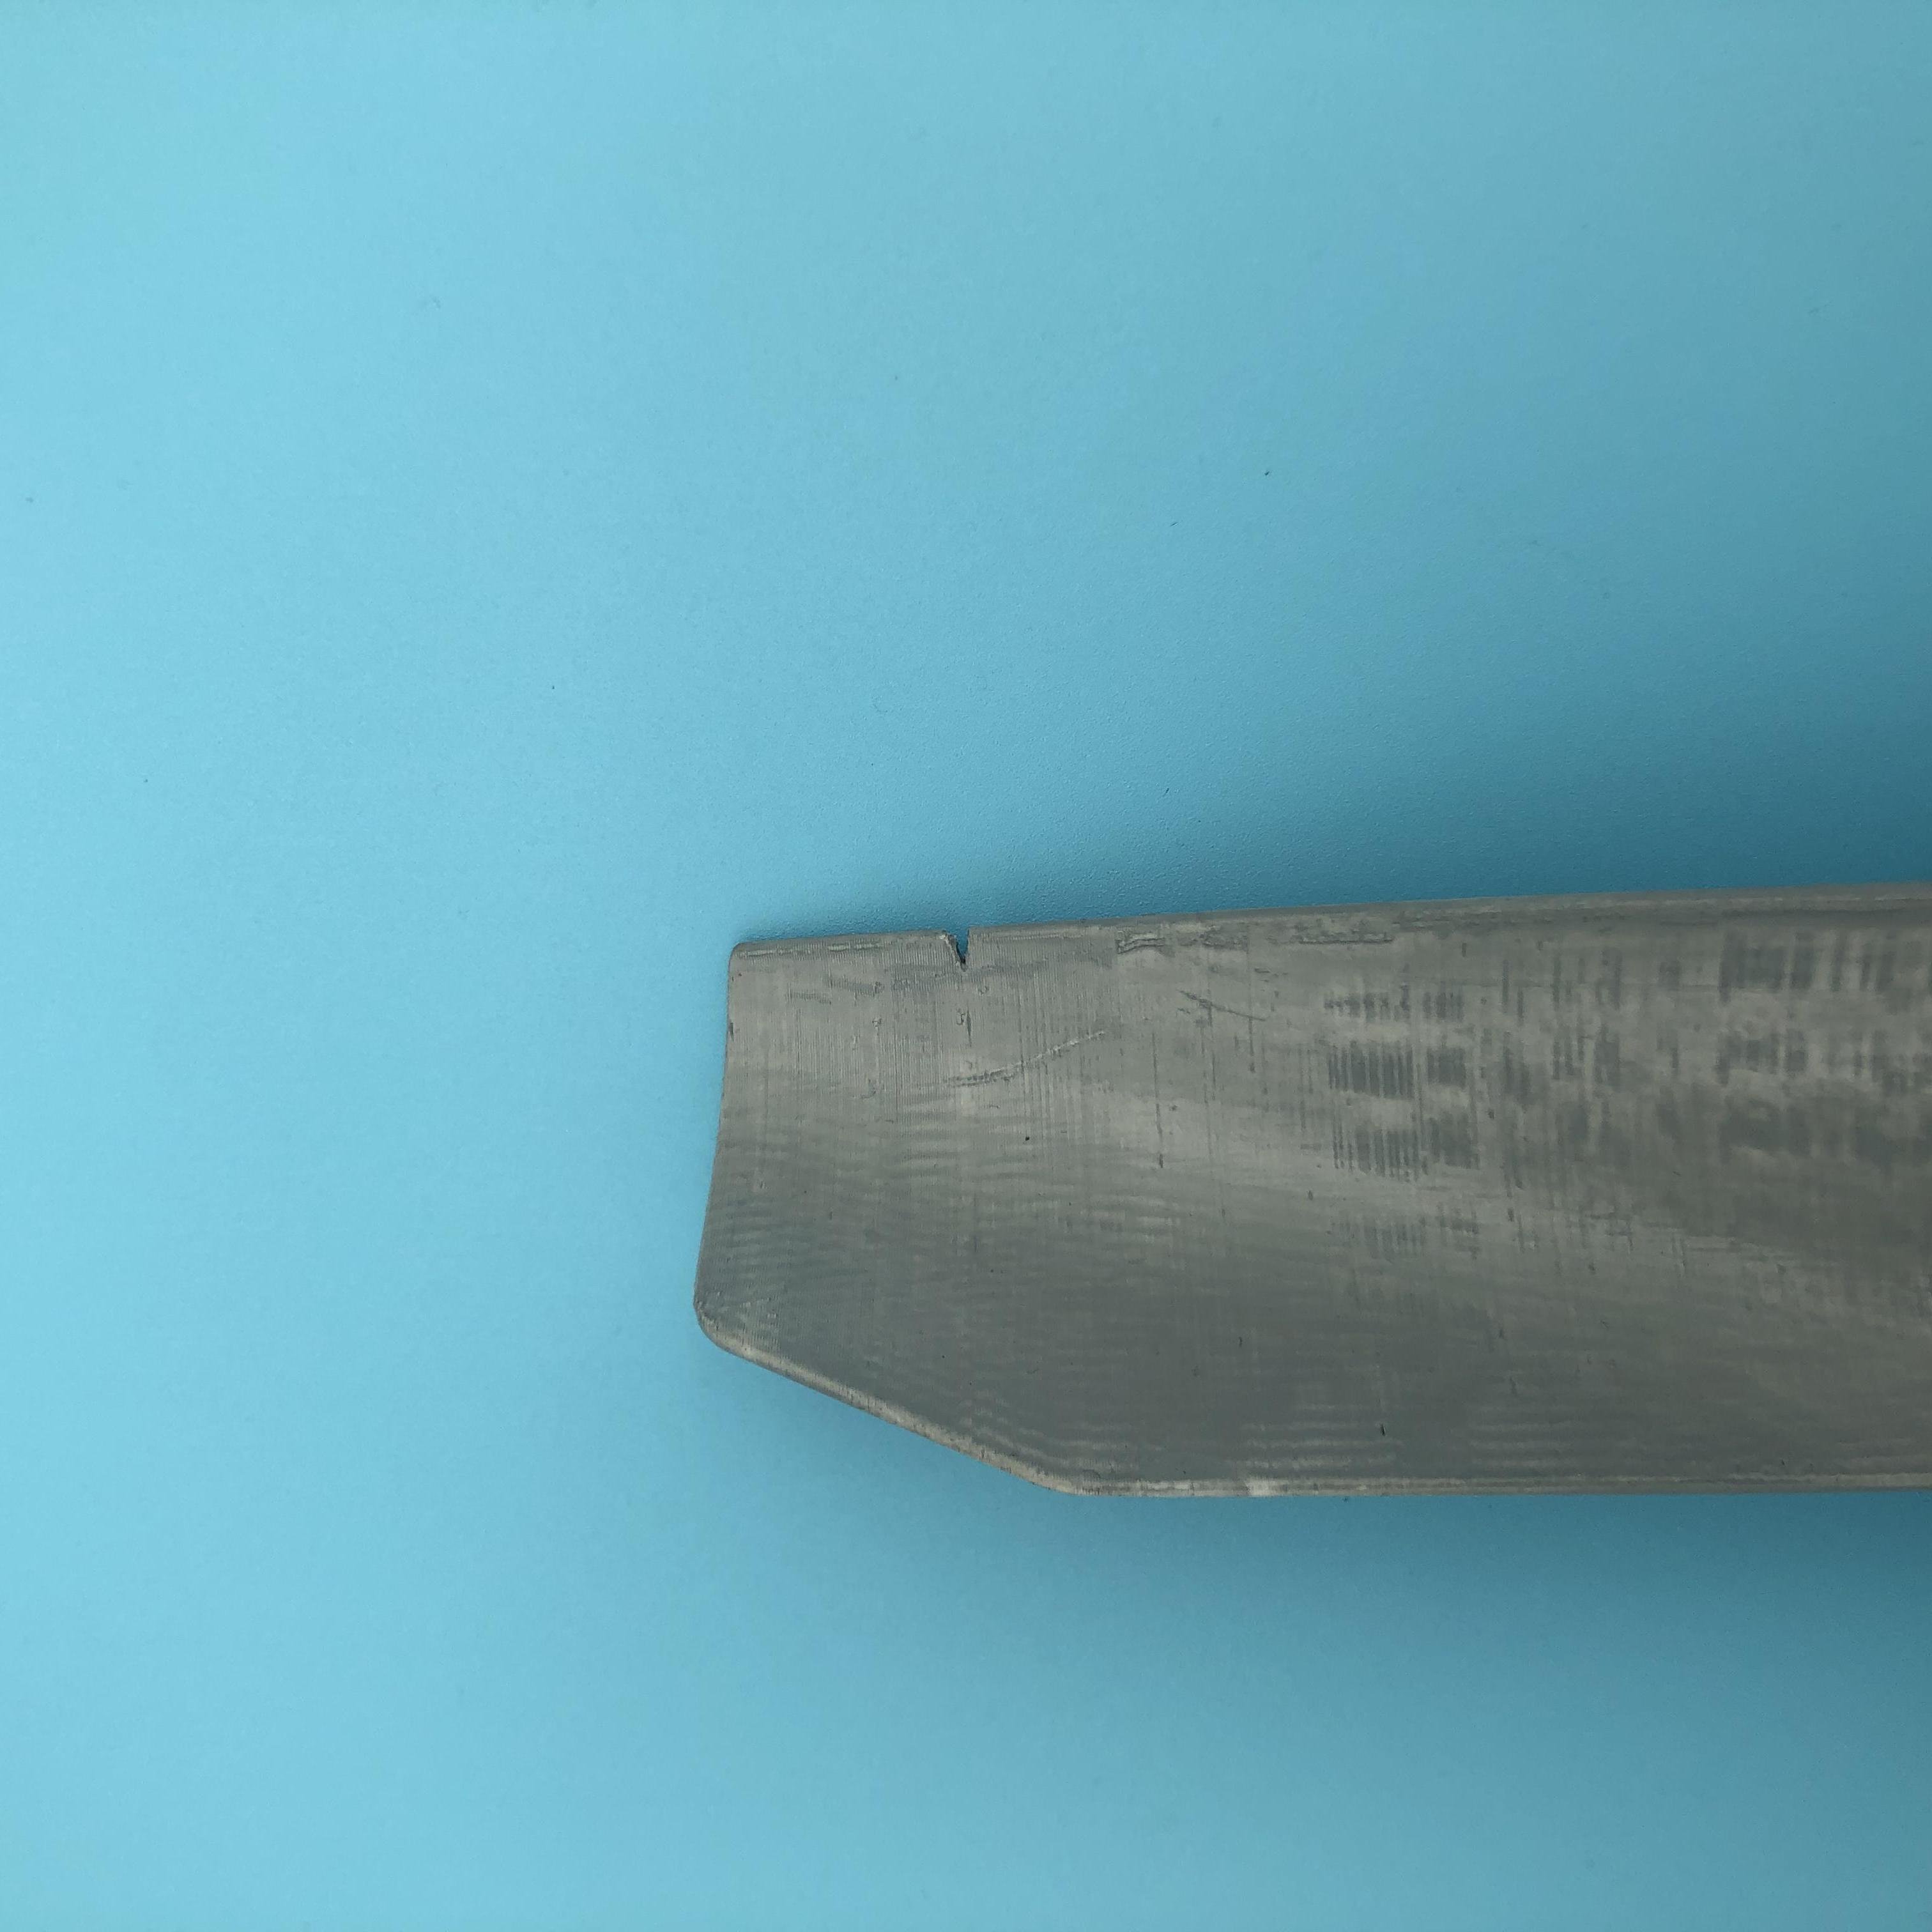groove: (925, 925, 1016, 975)
